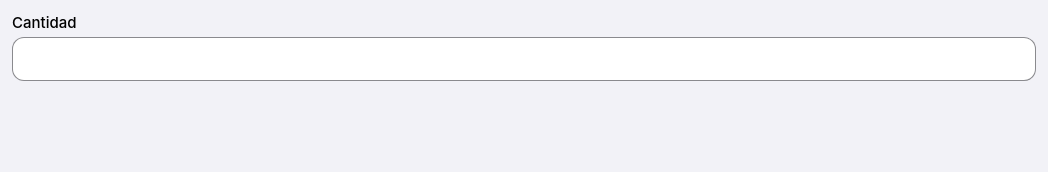
NumberField › normalizes leading zeros on blur
Type "007" into the field labelled "Cantidad". click: (524, 59)
box: 12,37 -> 1036,81
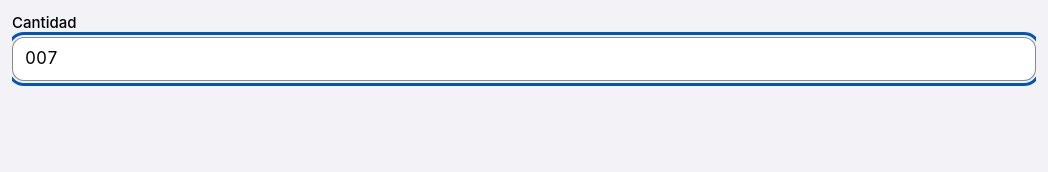
Press Tab
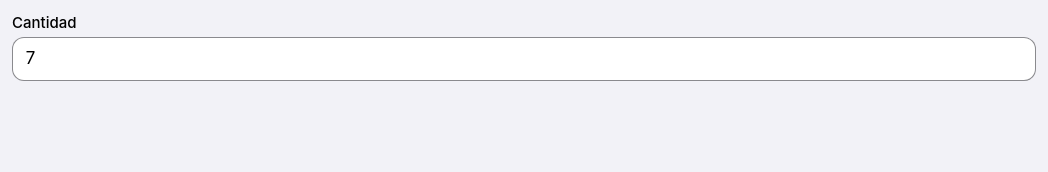
Expected: the field labelled "Cantidad" holds "7", 12,37 -> 1036,81
